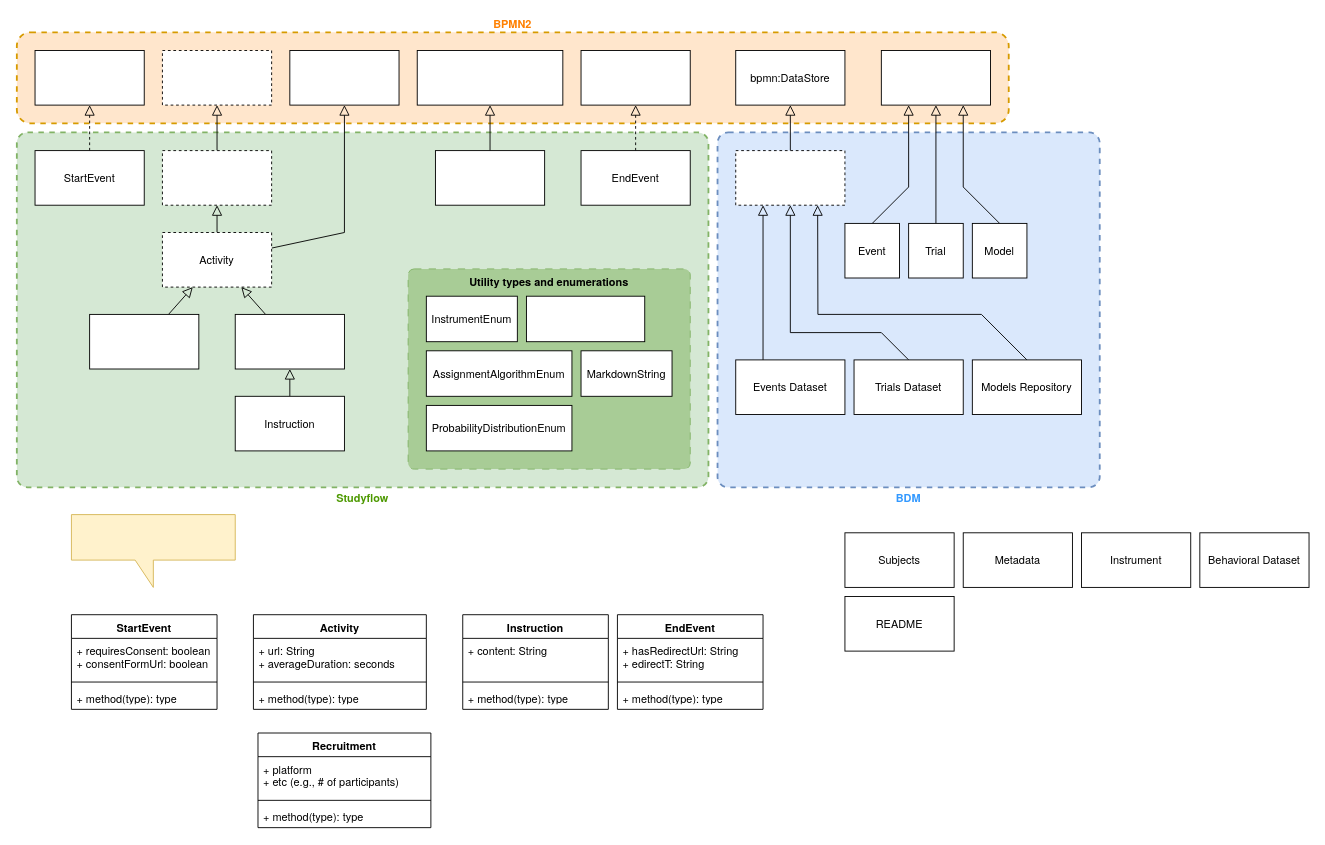
The diagram is 1325 pixels wide and 845 high, and some of its shapes have lost their labels. Each missing label, with the centre of its shape:
"BehaverseSceneEnum" goes at pixel 585 318.
"bpmn2:ExclusiveGateway" goes at pixel 489 77.
"bpmn:BaseElement" goes at pixel 217 77.
"bpmn:DataObject" goes at pixel 935 77.
"bpmn:EndEvent" goes at pixel 635 77.
"bpmn:StartEvent" goes at pixel 89 77.
"bpmn:Task" goes at pixel 344 77.
"CognitiveTask" goes at pixel 144 341.
"Dataset" goes at pixel 790 177.
"Element" goes at pixel 217 177.
"Questionnaire" goes at pixel 289 341.
"RandomGateway" goes at pixel 490 177.
"TODO: fields and types" goes at pixel 153 550.
